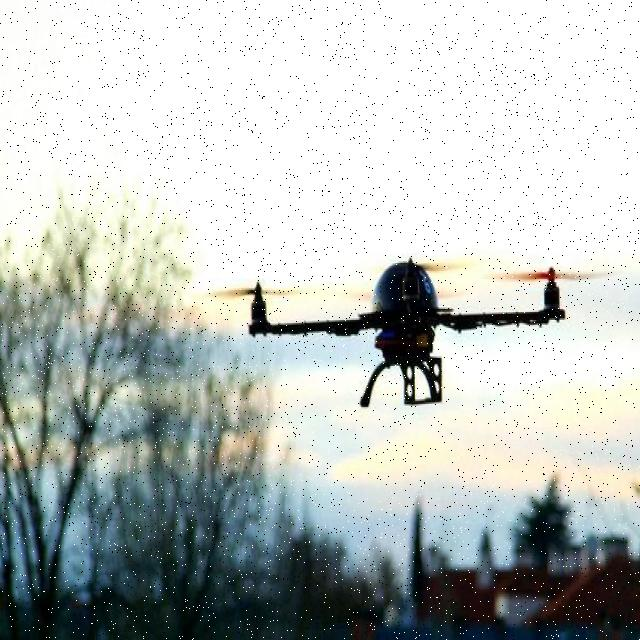UAV: (248, 244, 568, 418)
